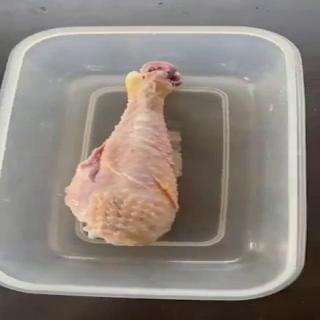Ayam: (64, 61, 184, 247)
